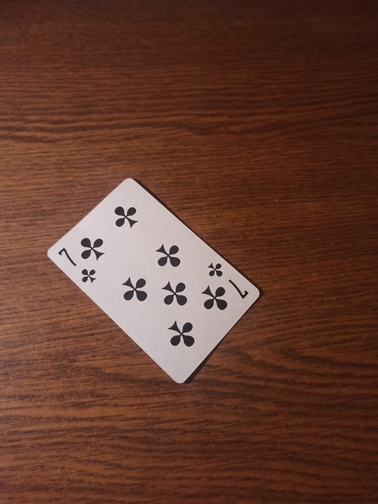sevenclubs: (48, 178, 263, 385)
